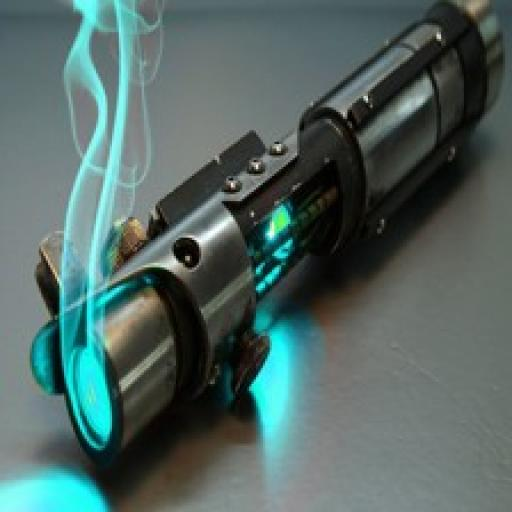lightsaber: (31, 0, 504, 461)
